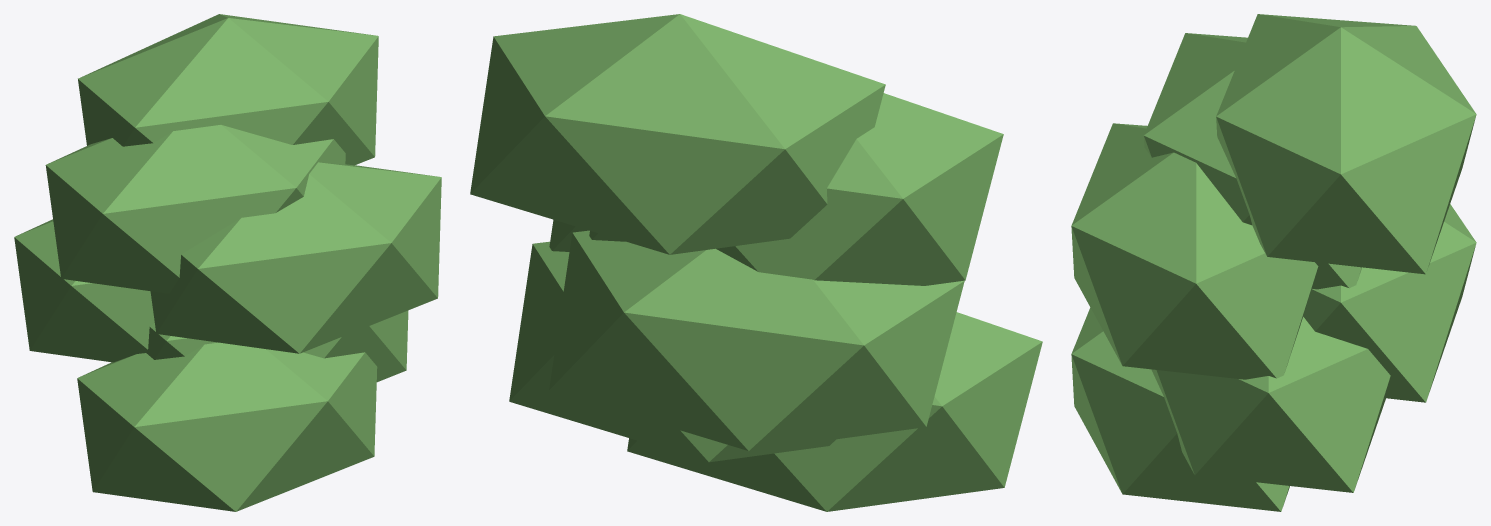
Rendered from item_065_pea_l.glb.
3 renders of one model, left to right at view 1: azimuth 30°, elevation 25°; view 2: azimuth 150°, elevation 25°; view 3: azimuth 270°, elevation 25°, orthographic. The views are drawn at different scales.
Visible parts, largest first — view 1: item_065_pea_l; view 2: item_065_pea_l; view 3: item_065_pea_l.
Boxes of the visible parts, x1,y1,x2,y2 form: item_065_pea_l: [14, 14, 441, 511]; item_065_pea_l: [470, 14, 1042, 511]; item_065_pea_l: [1071, 14, 1476, 511].
Bounding box in the file's own units: 0.3841 × 0.4458 × 0.336.
